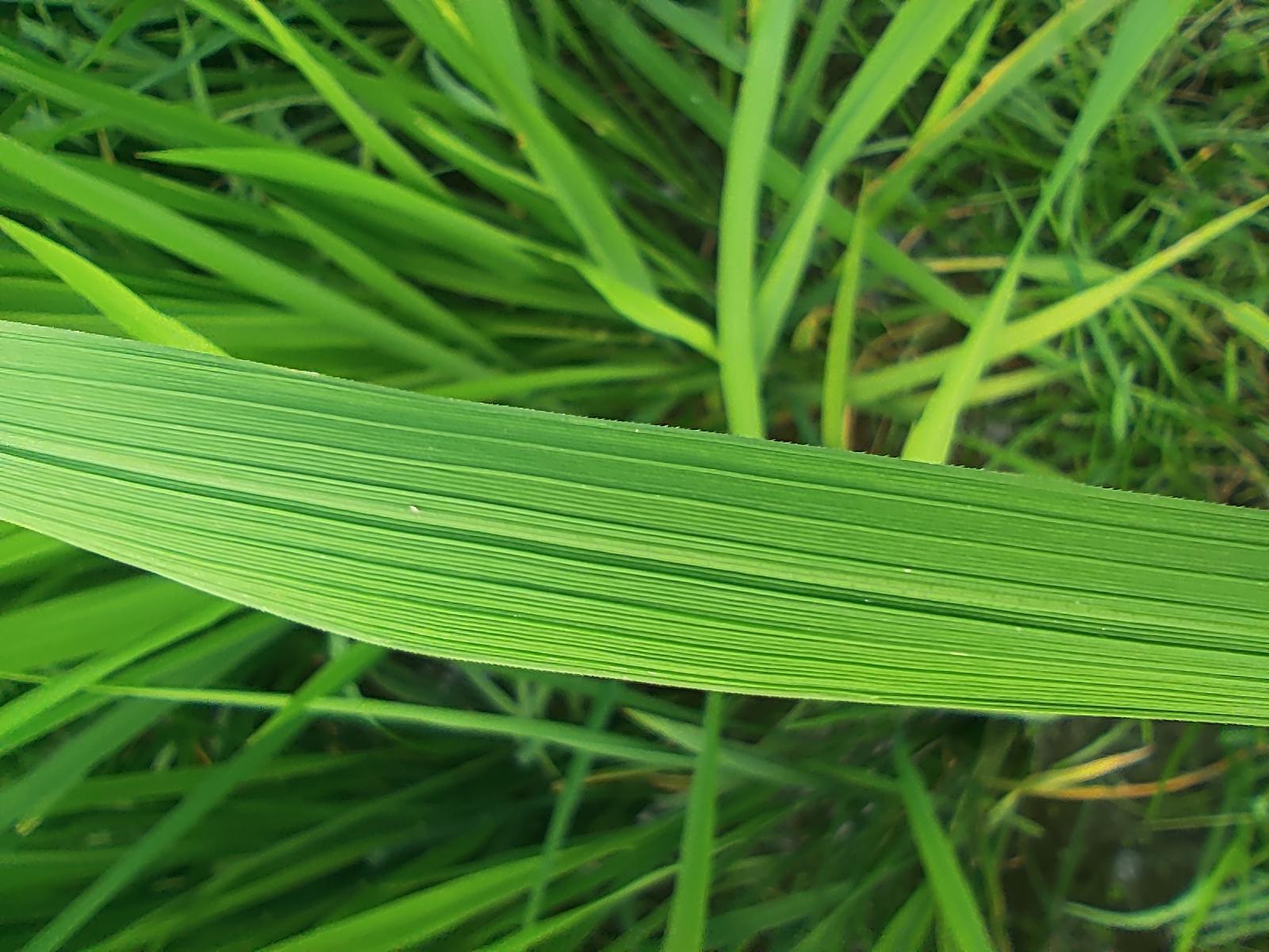Healthy: (304, 0, 843, 951)
